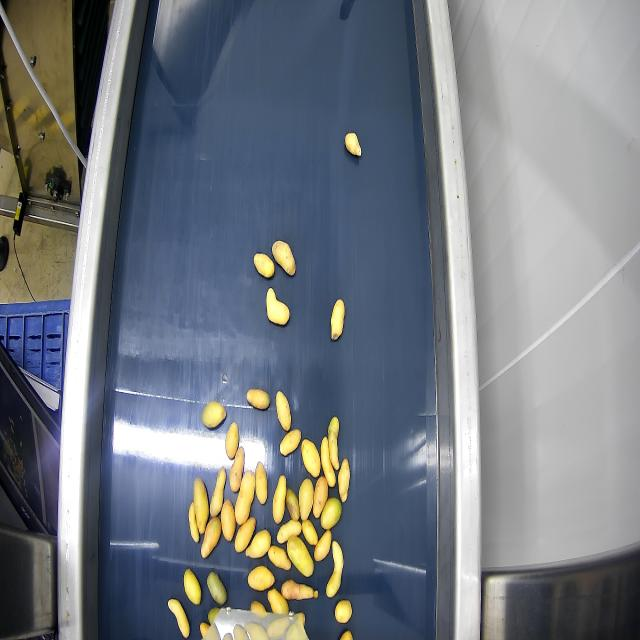Baby Potato: (287, 536, 313, 577), (235, 472, 254, 525), (326, 541, 343, 598), (266, 288, 289, 325), (193, 478, 208, 534), (201, 516, 221, 558), (272, 240, 295, 276), (168, 599, 189, 638), (320, 437, 336, 487), (210, 468, 226, 517), (301, 439, 321, 477), (245, 530, 270, 559), (281, 580, 317, 599), (235, 518, 255, 552), (207, 572, 227, 606), (229, 447, 244, 492), (272, 476, 286, 524), (320, 497, 341, 529), (248, 566, 274, 591), (328, 416, 340, 470), (313, 476, 328, 518), (220, 499, 235, 541), (202, 401, 225, 428), (184, 569, 201, 605), (279, 429, 301, 456), (276, 392, 291, 431), (299, 479, 313, 520), (277, 520, 301, 543), (267, 589, 288, 615), (331, 299, 344, 340), (268, 546, 290, 570), (314, 531, 331, 561), (254, 253, 274, 278), (255, 463, 267, 504), (225, 422, 238, 459), (338, 459, 349, 502), (246, 389, 269, 409), (302, 520, 318, 546), (189, 502, 199, 543), (335, 600, 352, 624), (286, 488, 299, 519), (345, 133, 360, 156), (250, 600, 266, 615), (208, 608, 219, 624), (200, 622, 210, 638), (340, 631, 352, 639)
